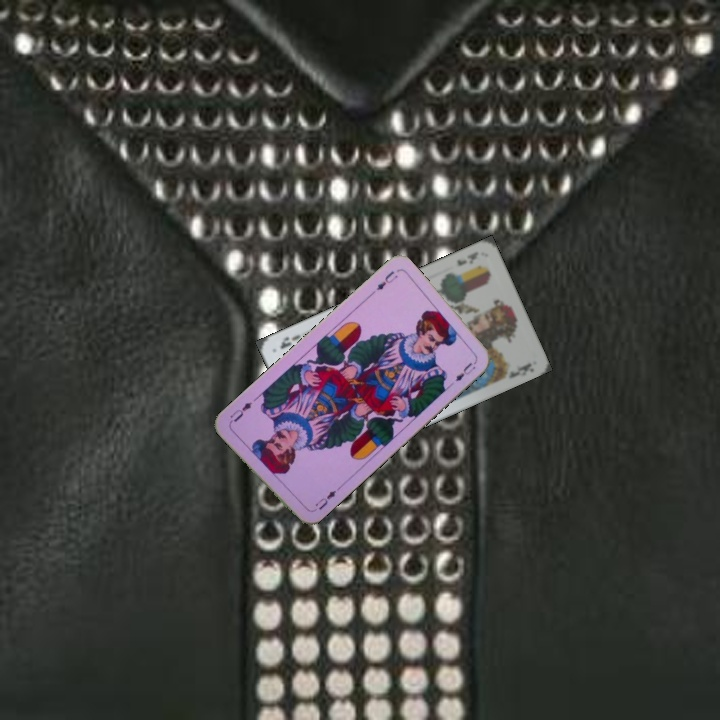EK: (453, 248, 481, 269)
EU: (366, 266, 401, 298), (311, 484, 341, 513)
